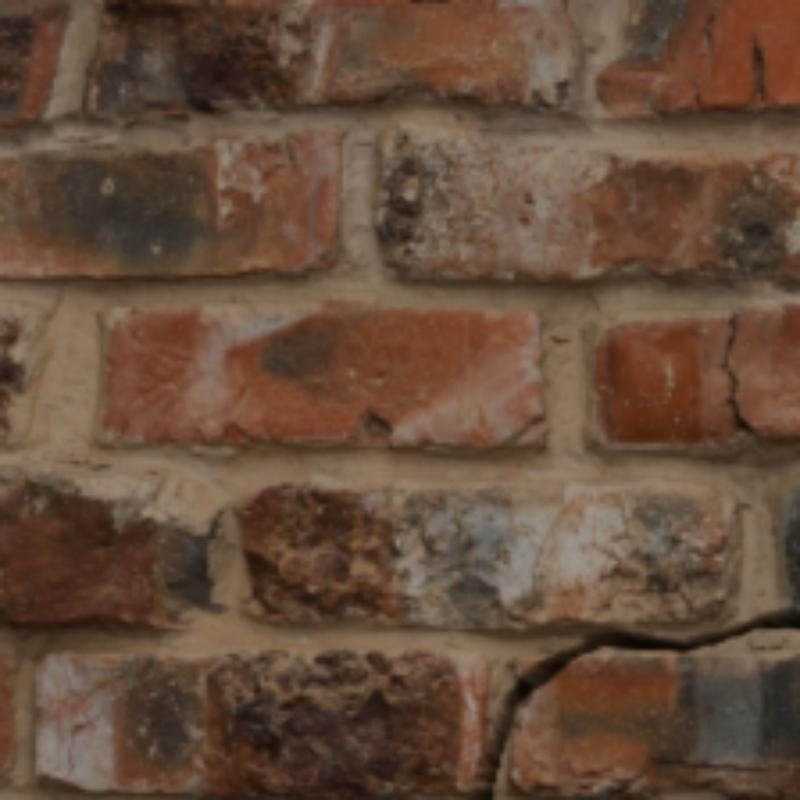crack: (471, 611, 799, 800), (721, 314, 761, 439)
